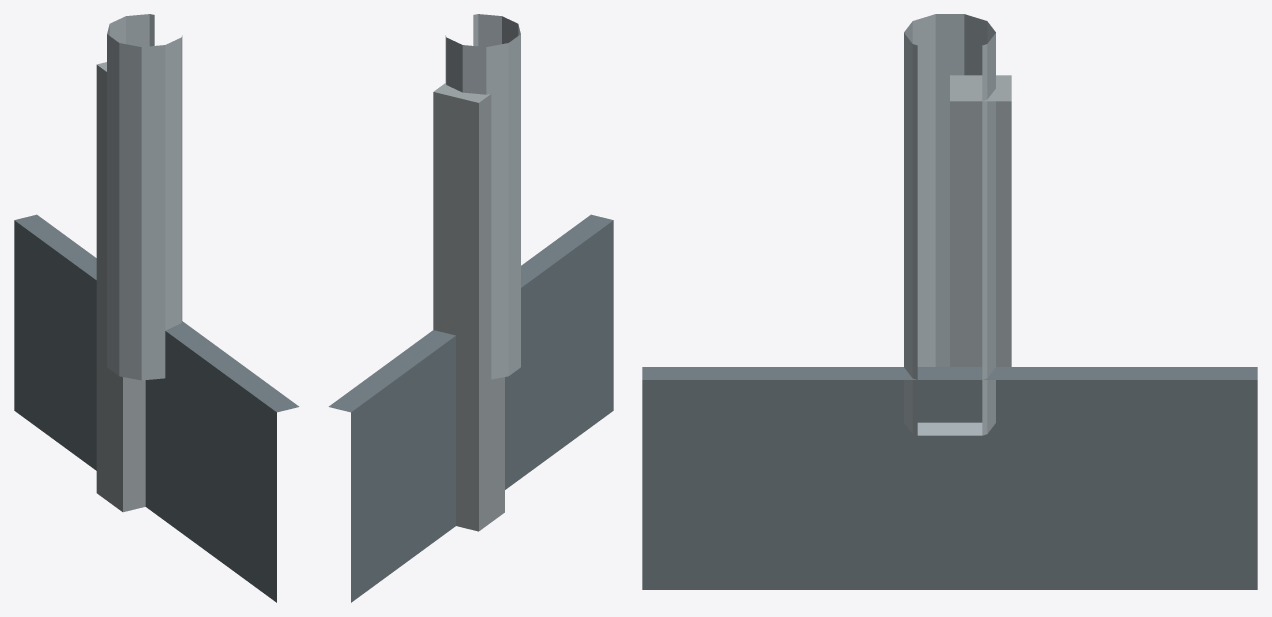
The model's file is cell_70.obj.
3 renders of one model, left to right at view 1: azimuth 30°, elevation 25°; view 2: azimuth 150°, elevation 25°; view 3: azimuth 270°, elevation 25°, orthographic. The views are drawn at different scales.
Bounding box in the file's own units: 0.1213 × 1 × 1.
